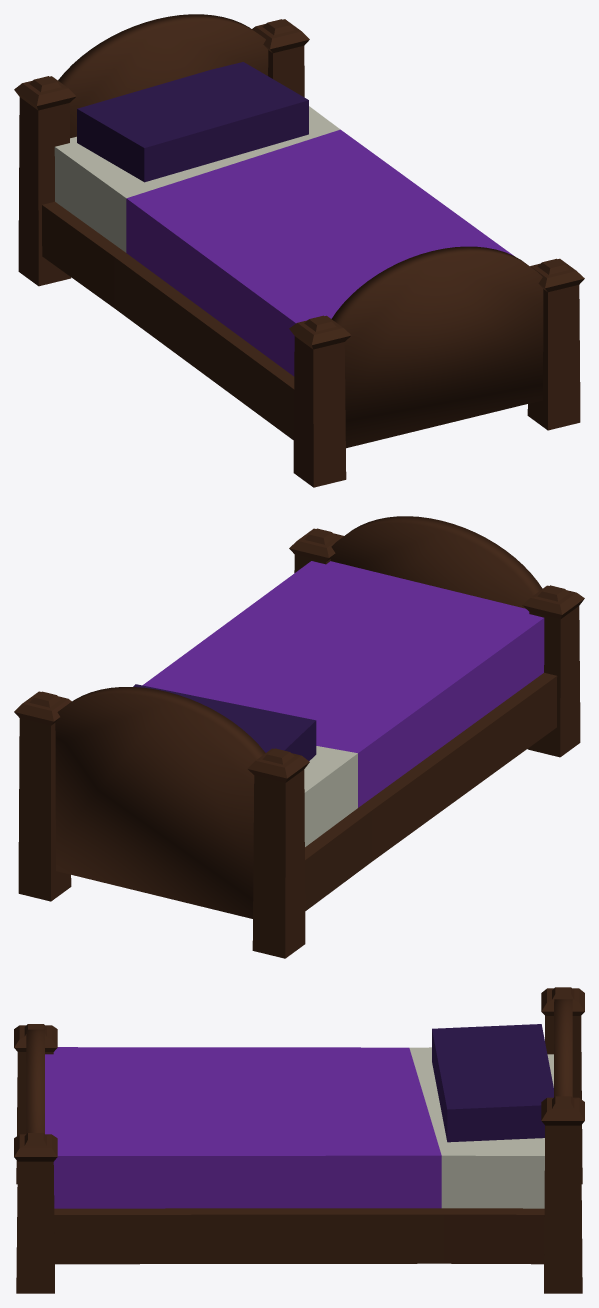
The model's file is Bed[Edited].fbx.
3 renders of one model, top to bottom at view 1: azimuth 30°, elevation 25°; view 2: azimuth 150°, elevation 25°; view 3: azimuth 270°, elevation 25°, orthographic. The views are drawn at different scales.
Parts seen in each view (by area): view 1: Bed; view 2: Bed; view 3: Bed.
Part boxes in pixels (x1=…): Bed: x1=14, y1=14, x2=584, y2=487; Bed: x1=14, y1=516, x2=584, y2=958; Bed: x1=14, y1=987, x2=584, y2=1293.
Bounding box in the file's own units: 466 × 364 × 879.
